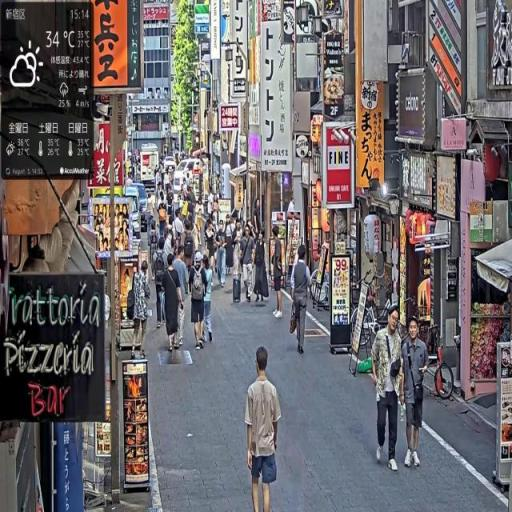person: (246, 344, 283, 512), (373, 307, 408, 473), (400, 316, 433, 472), (291, 244, 313, 356), (163, 252, 186, 353), (132, 257, 152, 358), (189, 253, 208, 352), (271, 229, 287, 320), (153, 242, 169, 329), (253, 228, 270, 305), (240, 224, 256, 305), (202, 253, 216, 344), (215, 215, 228, 289)
